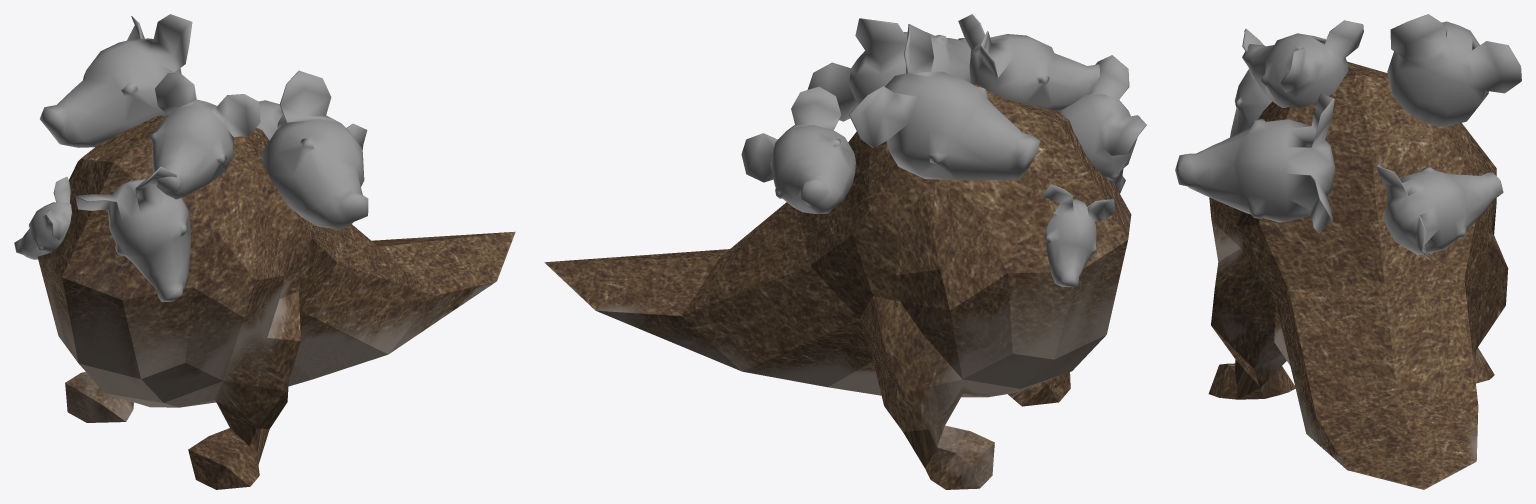
Rendered from amalgam4.fbx.
The picture shows the model from 3 angles, left to right: view 1: azimuth 30°, elevation 25°; view 2: azimuth 150°, elevation 25°; view 3: azimuth 270°, elevation 25°; orthographic projection. The views are drawn at different scales.
Parts seen in each view (by area): view 1: amalgam4body, amalgam4; view 2: amalgam4body, amalgam4; view 3: amalgam4body, amalgam4.
Boxes of the visible parts, x1,y1,x2,y2 form: amalgam4body: (37, 115, 515, 489); amalgam4: (14, 14, 368, 301); amalgam4body: (544, 84, 1131, 489); amalgam4: (741, 14, 1146, 287); amalgam4body: (1208, 61, 1508, 489); amalgam4: (1175, 14, 1521, 259).
Size of the model in its own units: 111 by 82.95 by 65.35.
